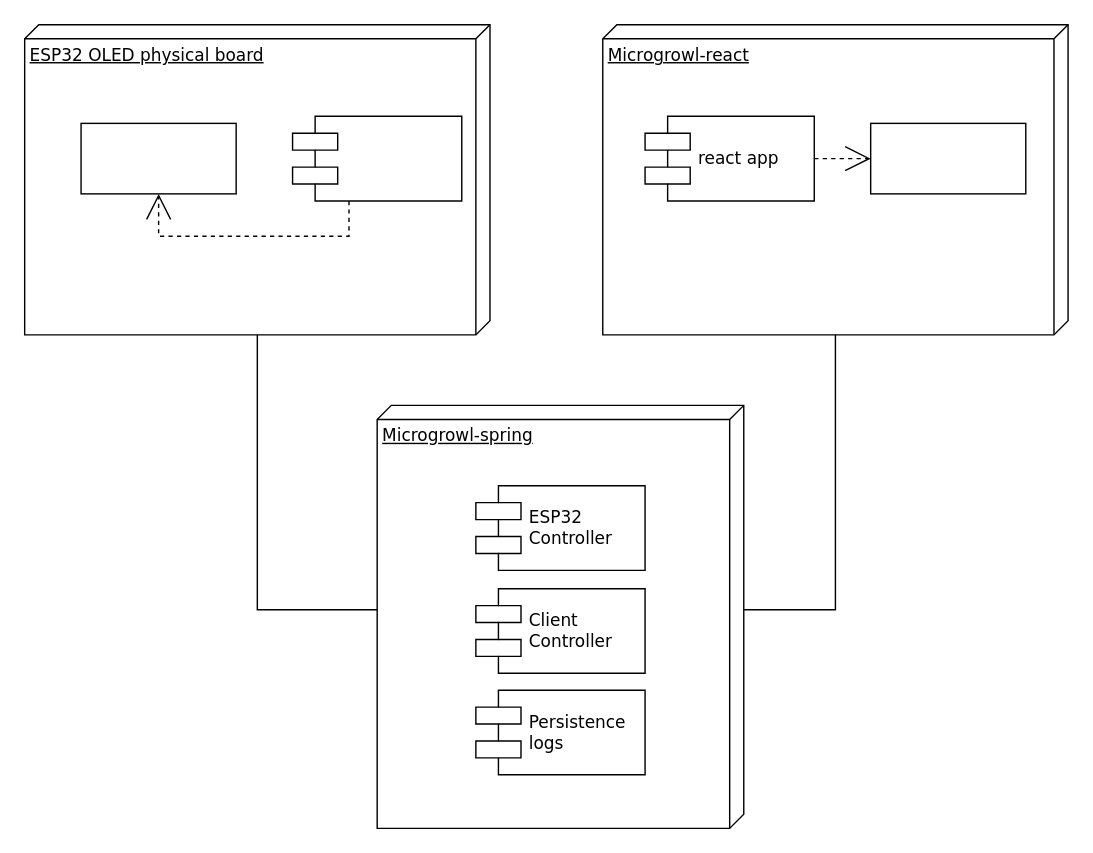
Image size: 1093x853. Some labels were removed from this diagram. Here are the shapes that lost their labels. From the top down, the centre of each, then its label:
pixel 158 158: Growroom
pixel 376 158: Devices and sensors drivers
pixel 947 158: User Interface
